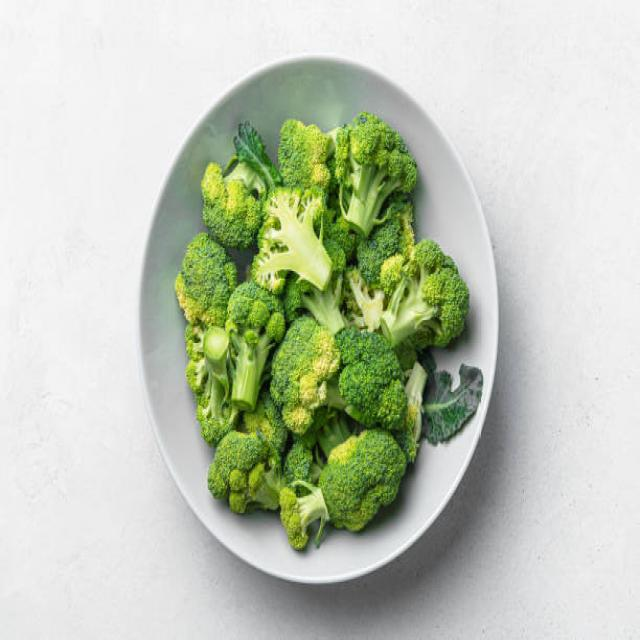Broccoli head: (388, 244, 476, 336), (328, 435, 420, 521), (266, 320, 340, 424), (341, 103, 404, 215), (161, 253, 231, 334), (197, 151, 260, 239), (214, 442, 285, 516), (270, 201, 330, 287), (183, 346, 222, 403)
